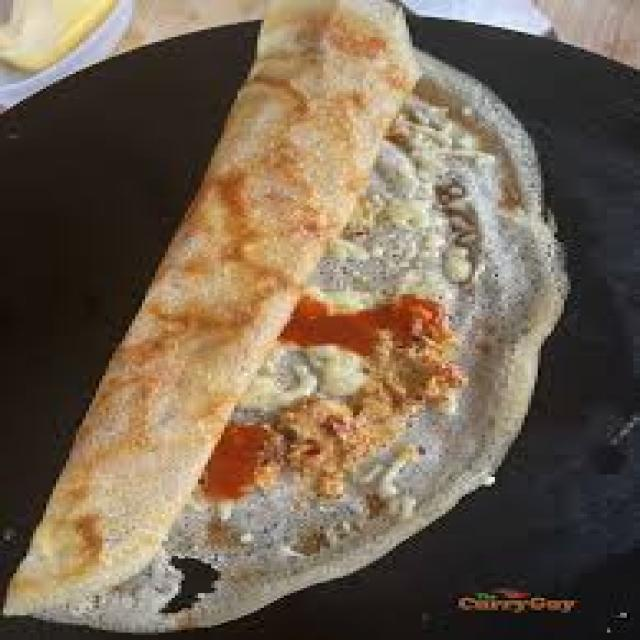DOSA: (0, 0, 577, 638)
